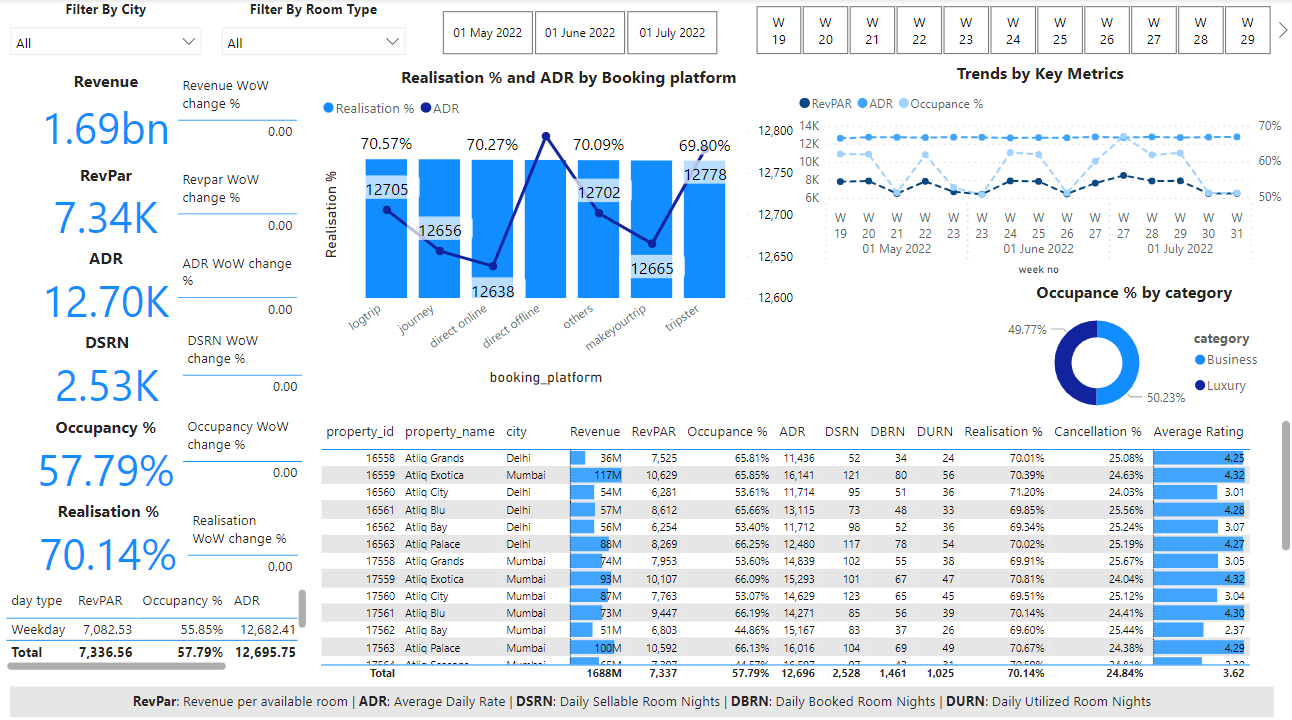

The page's visual inventory and layout, read from the dashboard file:
{"tool":"powerbi","page":{"name":"Page 1","canvas":[1280,720],"ordinal":0},"visuals":[{"type":"tableEx","fields":{"Values":["dim_hotels.property_id","dim_hotels.property_name","dim_hotels.city","key_measures.Revenue","key_measures.RevPAR","key_measures.Occupance %","key_measures.ADR","key_measures.DSRN","key_measures.DBRN","key_measures.DURN","key_measures.Realisation %","key_measures.Cancellation %"]},"box":[310.9,411.3,969.5,268.1],"z":0},{"type":"slicer","title":"Filter By City","fields":{"Values":["dim_hotels.city"]},"box":[0,0,209.3,61.2],"z":1000},{"type":"slicer","title":"Filter By Room Type","fields":{"Values":["dim_rooms.room_class"]},"box":[209.3,0,202,61.2],"z":2000},{"type":"slicer","fields":{"Values":["dim_date.mmm yy"]},"box":[411.3,4.9,321.9,56.3],"z":3000},{"type":"slicer","fields":{"Values":["dim_date.week no"]},"box":[722.2,0,558.2,61.2],"z":4000},{"type":"card","title":"Revenue","fields":{"Values":["key_measures.Revenue"]},"box":[0,69.8,209.3,91.8],"z":5000},{"type":"card","title":"RevPar","fields":{"Values":["key_measures.RevPAR"]},"box":[0,161.6,209.3,83.2],"z":7000},{"type":"card","title":"DSRN","fields":{"Values":["key_measures.DSRN"]},"box":[1.2,328.1,209.3,83.2],"z":8000},{"type":"donutChart","fields":{"Category":["dim_hotels.category"],"Y":["key_measures.Occupance %"]},"box":[984.2,277.9,275.4,142],"z":8500},{"type":"card","title":"Occupancy %","fields":{"Values":["key_measures.Occupance %"]},"box":[0,411.3,209.3,83.2],"z":9000},{"type":"card","title":"ADR","fields":{"Values":["key_measures.ADR"]},"box":[0,244.8,209.3,83.2],"z":10000},{"type":"lineClusteredColumnComboChart","title":"Realisation % and ADR by Booking platform","fields":{"Y":["key_measures.Realisation %"],"Category":["fact_bookings.booking_platform"],"Y2":["key_measures.ADR"]},"box":[313.4,66.1,497,320.7],"z":11000},{"type":"lineChart","title":"Trends by Key Metrics","fields":{"Category":["dim_date.mmm yy","dim_date.week no"],"Y":["key_measures.RevPAR","key_measures.ADR"],"Y2":["key_measures.Occupance %"]},"box":[784.6,61.2,487.2,216.7],"z":12000},{"type":"tableEx","fields":{"Values":["dim_date.day_type","key_measures.RevPAR","key_measures.Occupance %","key_measures.ADR","key_measures.Realisation %"]},"box":[0,577.8,308.5,90.6],"z":13000},{"type":"card","title":"Realisation %","fields":{"Values":["key_measures.Realisation %"]},"box":[2.4,494.5,209.3,83.2],"z":14000},{"type":"tableEx","fields":{"Values":["key_measures.Revenue WoW change %"]},"box":[168.9,69.8,139.5,78.3],"z":15000},{"type":"tableEx","fields":{"Values":["key_measures.Revpar WoW change %"]},"box":[168.9,161.6,139.5,78.3],"z":16000},{"type":"tableEx","fields":{"Values":["key_measures.ADR WoW change %"]},"box":[168.9,244.8,139.5,78.3],"z":17000},{"type":"tableEx","fields":{"Values":["key_measures.DSRN WoW change %"]},"box":[173.8,320.7,139.5,78.3],"z":18000},{"type":"tableEx","fields":{"Values":["key_measures.Occupancy WoW change %"]},"box":[173.8,406.4,139.5,78.3],"z":19000},{"type":"tableEx","fields":{"Values":["key_measures.Realisation WoW change %"]},"box":[178.7,499.4,129.8,78.3],"z":20000},{"type":"textbox","box":[9.8,679.4,1249.8,30.6],"z":20001}]}

Visuals, with their boxes in screenshot pixels (x1, y1, x2, y2), scaled from the page's 1280x720 canvas onto the 1292x720 screenshot:
tableEx - dim_hotels.property_id x dim_hotels.property_name: (314, 411, 1291, 679)
"Filter By City" slicer: (0, 0, 211, 61)
"Filter By Room Type" slicer: (211, 0, 415, 61)
slicer - dim_date.mmm yy: (415, 5, 740, 61)
slicer - dim_date.week no: (729, 0, 1291, 61)
"Revenue" card: (0, 70, 211, 162)
"RevPar" card: (0, 162, 211, 245)
"DSRN" card: (1, 328, 212, 411)
donutChart - dim_hotels.category x key_measures.Occupance %: (993, 278, 1271, 420)
"Occupancy %" card: (0, 411, 211, 494)
"ADR" card: (0, 245, 211, 328)
"Realisation % and ADR by Booking platform" lineClusteredColumnComboChart: (316, 66, 818, 387)
"Trends by Key Metrics" lineChart: (792, 61, 1284, 278)
tableEx - dim_date.day_type x key_measures.RevPAR: (0, 578, 311, 668)
"Realisation %" card: (2, 494, 214, 578)
tableEx - key_measures.Revenue WoW change %: (170, 70, 311, 148)
tableEx - key_measures.Revpar WoW change %: (170, 162, 311, 240)
tableEx - key_measures.ADR WoW change %: (170, 245, 311, 323)
tableEx - key_measures.DSRN WoW change %: (175, 321, 316, 399)
tableEx - key_measures.Occupancy WoW change %: (175, 406, 316, 485)
tableEx - key_measures.Realisation WoW change %: (180, 499, 311, 578)
textbox: (10, 679, 1271, 710)
